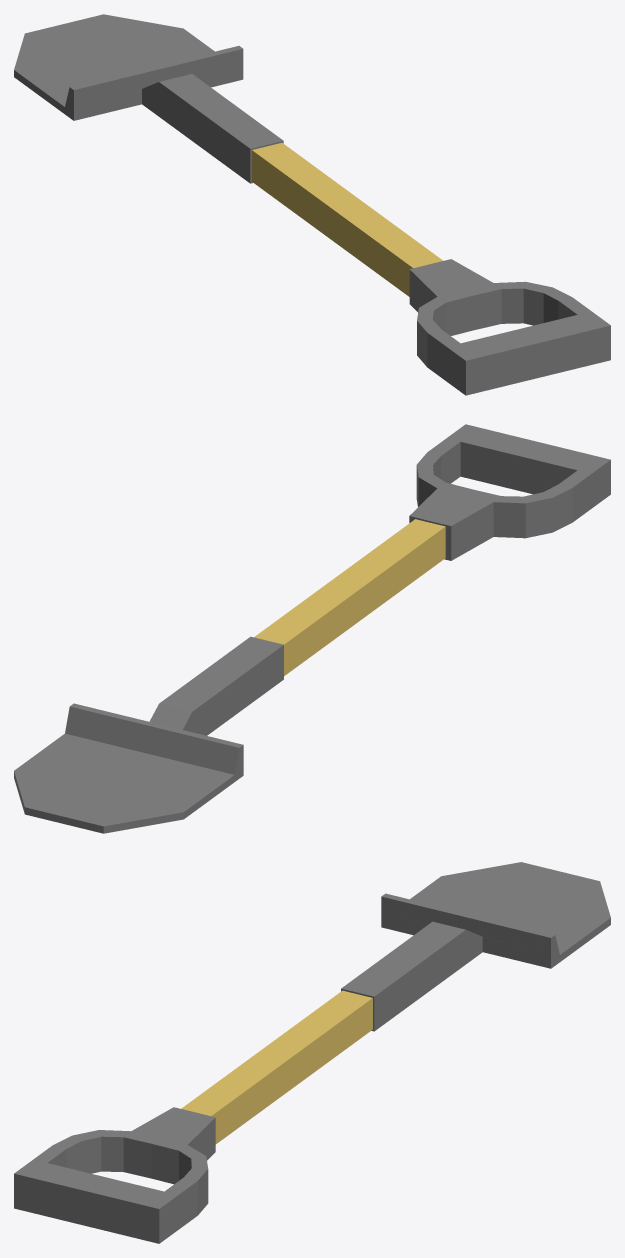
File: shovel.fbx
3 renders of one model, top to bottom at view 1: azimuth 30°, elevation 25°; view 2: azimuth 150°, elevation 25°; view 3: azimuth 330°, elevation 25°, orthographic.
Parts seen in each view (by area): view 1: Cube.002, Cube, Cube.001; view 2: Cube.002, Cube, Cube.001; view 3: Cube.002, Cube, Cube.001.
Boxes of the visible parts, x1,y1,x2,y2 form: Cube.002: [14, 14, 283, 183]; Cube: [409, 259, 610, 395]; Cube.001: [252, 143, 443, 296]; Cube.002: [14, 636, 283, 833]; Cube: [409, 424, 610, 560]; Cube.001: [254, 519, 445, 675]; Cube.002: [341, 862, 610, 1031]; Cube: [14, 1107, 215, 1243]; Cube.001: [181, 990, 372, 1144].
Size of the model in its own units: 1019 by 200 by 4932.
